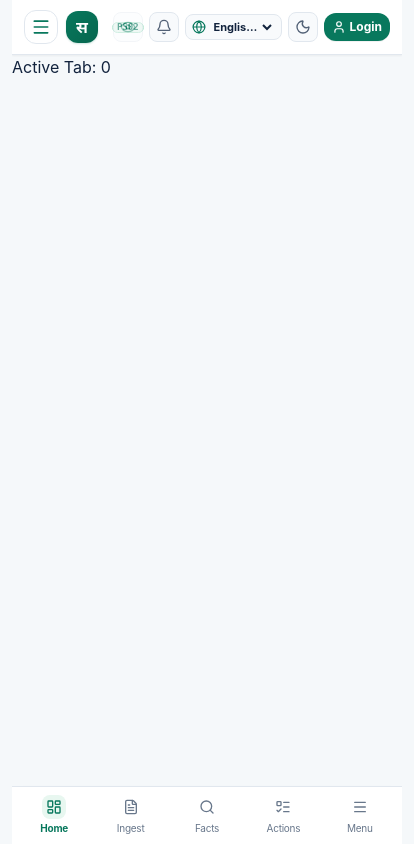
Mobile Navigation & Responsive Drawer › switches active tab when mobile bottom navigation button is clicked
The image size is (414, 844).
What coordinates should you click on to do the following:
click the button "Ingest"
I would click on:
 (131, 816)
Its box is [92, 791, 169, 840].
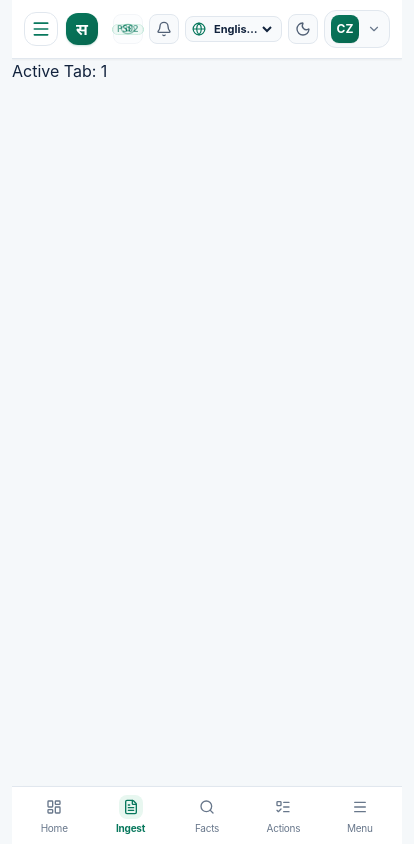
Check: the text with test id "active-tab-indicator" reads "Active Tab: 1", box [12, 61, 107, 81]
